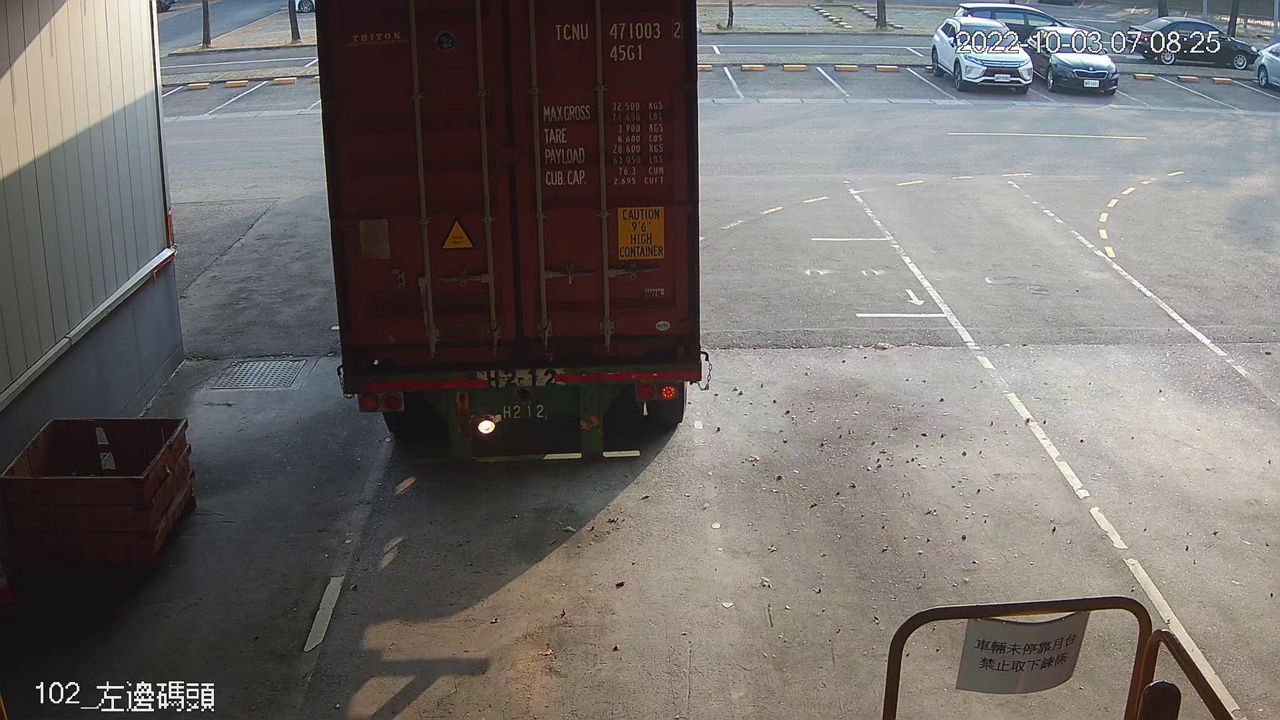container: (549, 15, 688, 67)
